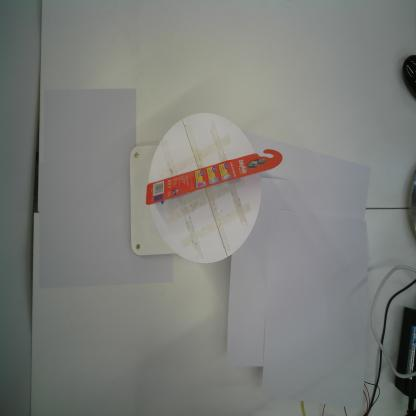Personal Hygiene: (146, 149, 283, 204)
